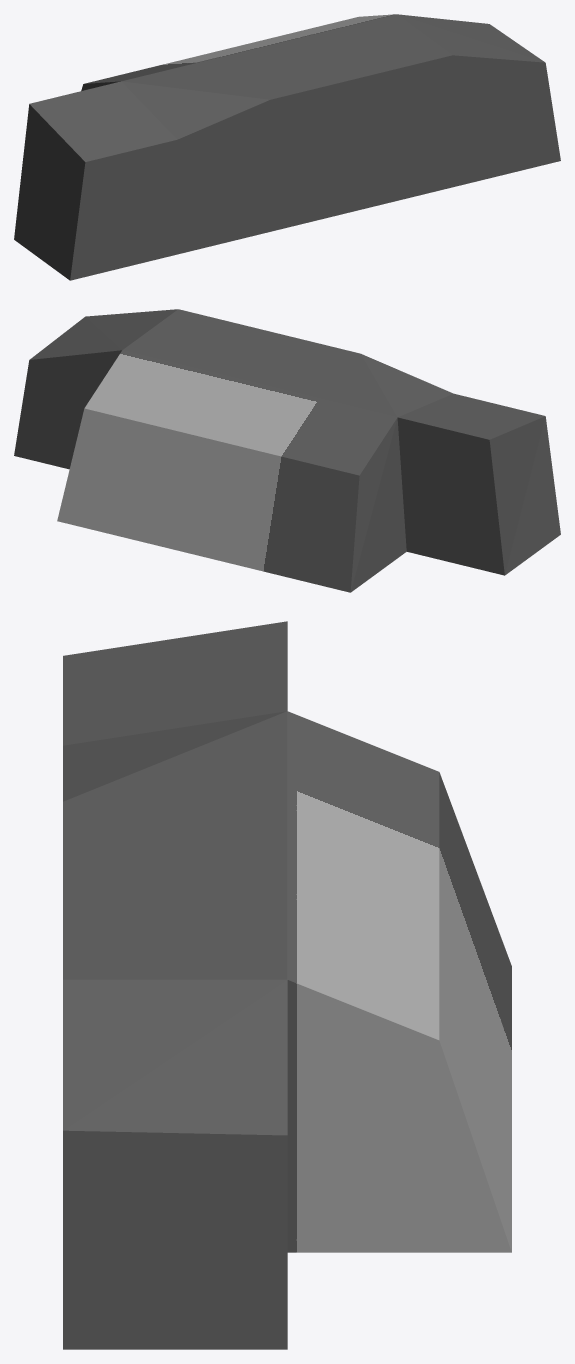
Rendered from stone_chips_815x04.gltf.
3 renders of one model, top to bottom at view 1: azimuth 30°, elevation 25°; view 2: azimuth 150°, elevation 25°; view 3: azimuth 270°, elevation 25°, orthographic. The views are drawn at different scales.
Visible parts, largest first — view 1: stone_chips_815x04; view 2: stone_chips_815x04; view 3: stone_chips_815x04.
Part boxes in pixels (x1=…): stone_chips_815x04: x1=14, y1=14, x2=560, y2=280; stone_chips_815x04: x1=14, y1=309, x2=560, y2=592; stone_chips_815x04: x1=63, y1=621, x2=511, y2=1349.
Size of the model in its own units: 0.5777 by 0.1485 by 0.2288.
Materials: 1 (1 with a texture image).
